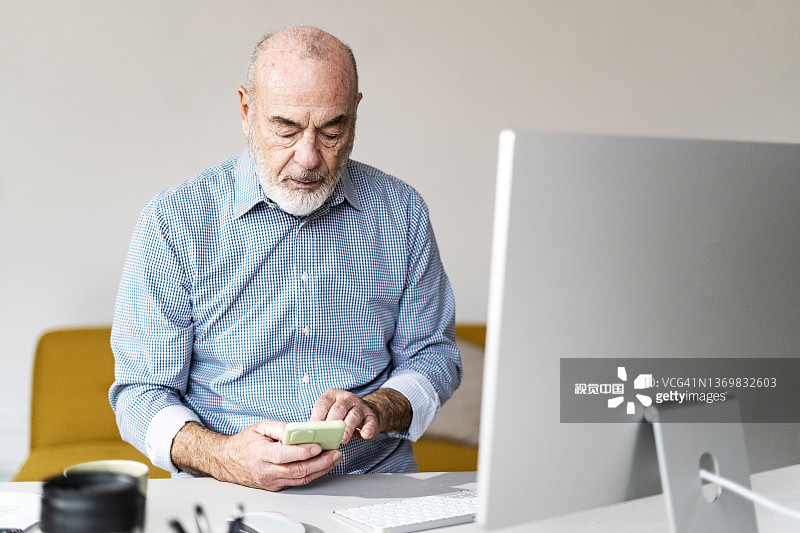reading: (206, 374, 395, 497)
